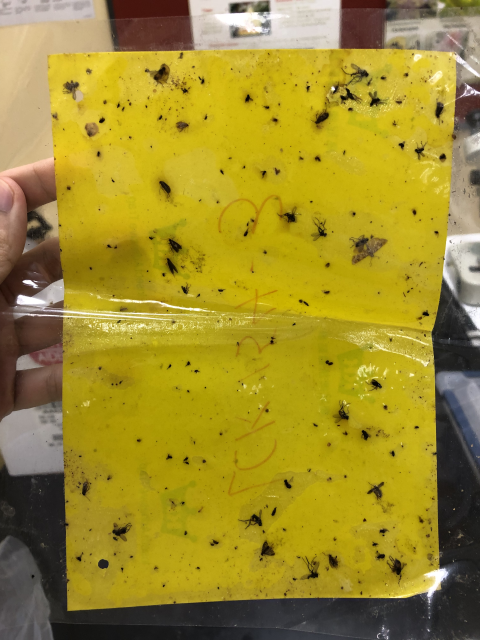DBM: (366, 481, 385, 501), (157, 177, 172, 200), (311, 108, 330, 125), (167, 238, 182, 253)
